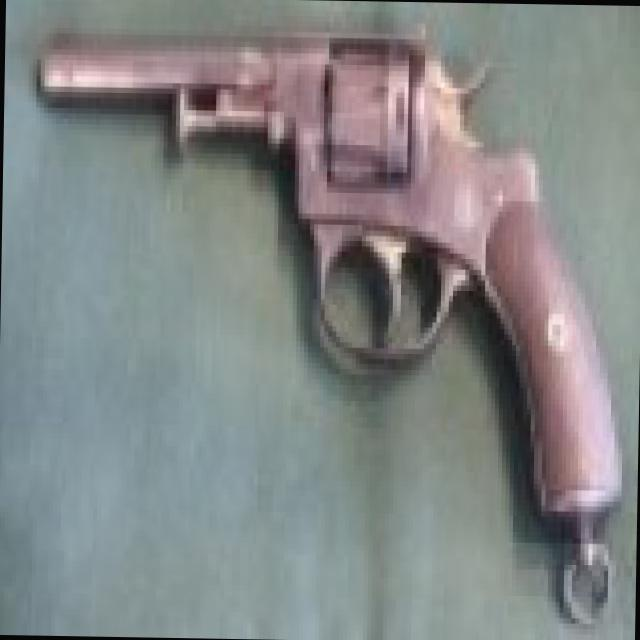handgun: (21, 5, 622, 518)
